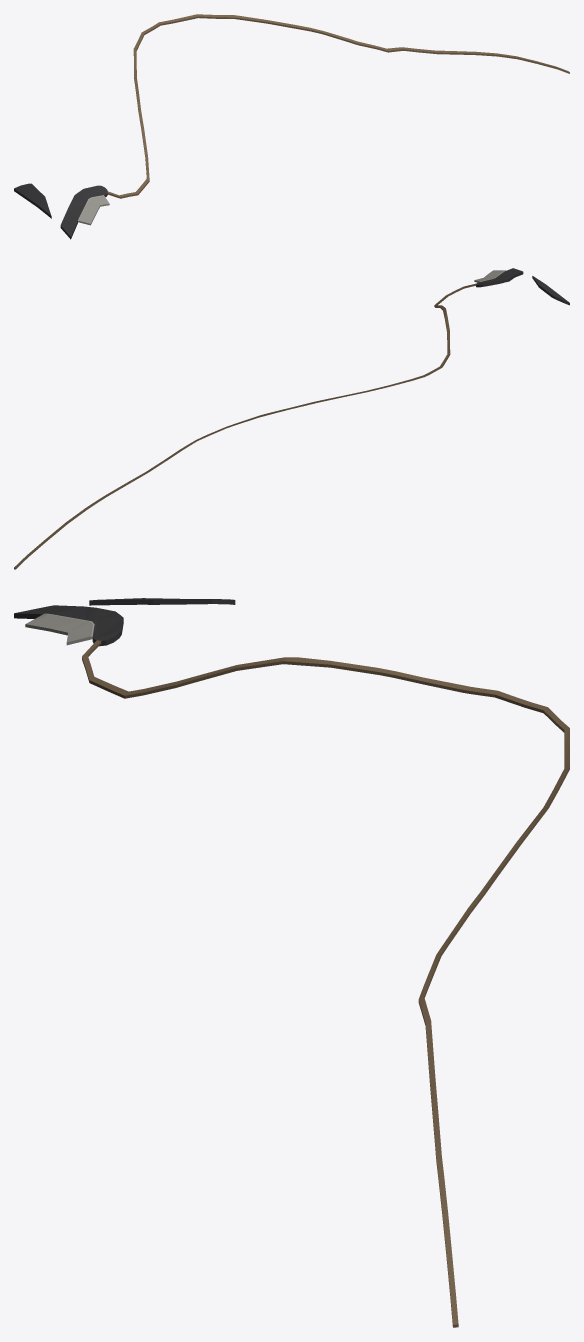
The picture shows the model from 3 angles, top to bottom: view 1: azimuth 30°, elevation 25°; view 2: azimuth 210°, elevation 25°; view 3: azimuth 270°, elevation 25°; orthographic projection. The views are drawn at different scales.
Bounding box in the file's own units: 293 × 56.17 × 119.
